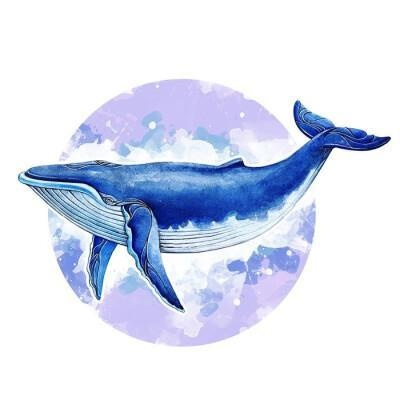fish: (13, 103, 391, 310)
